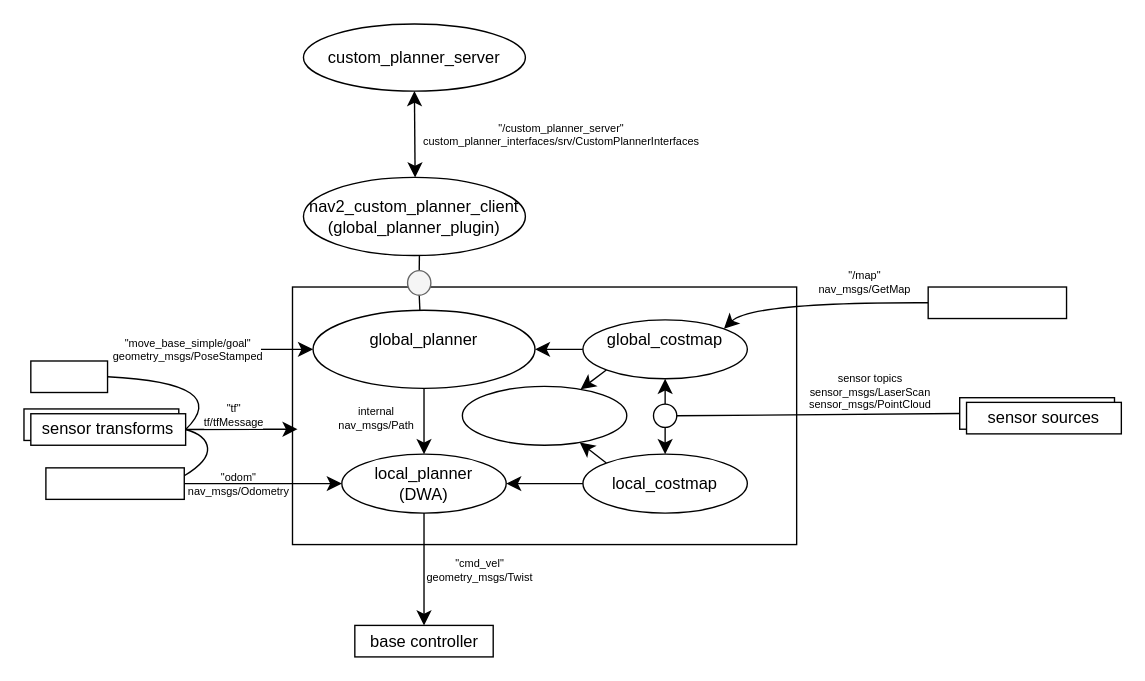
Some shapes in this 1145 by 681 pixel diagram are drawn without their labels. The shapes that lost their labels are listed below. From the top down, each one's centre as x and y in pixels, then its label:
At pixel 997 302: "map_server".
At pixel 68 376: "amcl".
At pixel 544 415: "recovery_behaviors".
At pixel 114 482: "odometry source".
